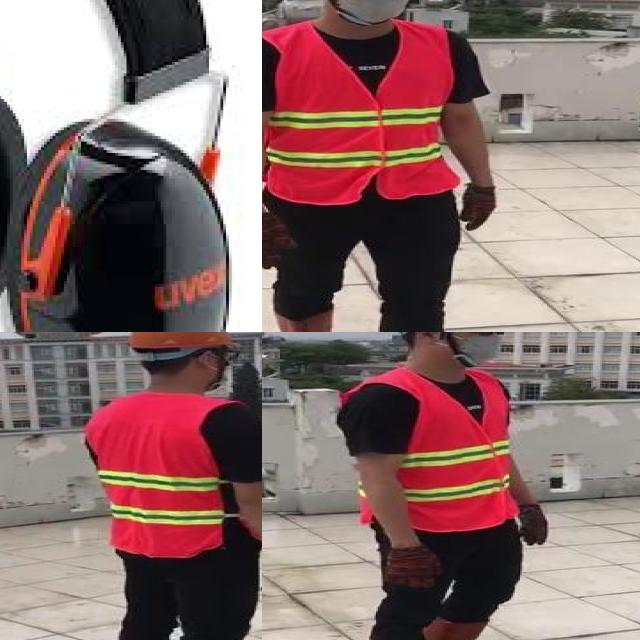Ear-protection: (0, 113, 228, 332)
boots: (427, 619, 509, 640), (271, 311, 338, 332)
face_mask: (330, 0, 419, 23), (447, 332, 509, 364)
glasses: (465, 332, 508, 339)
hand_glove: (385, 543, 442, 589), (458, 180, 497, 231), (262, 213, 294, 271), (517, 507, 559, 547)
head_helmet: (121, 332, 244, 352)
person: (262, 0, 521, 332), (330, 332, 554, 640), (80, 332, 262, 640)
vest: (262, 24, 461, 204), (346, 374, 516, 528), (82, 390, 229, 561)
